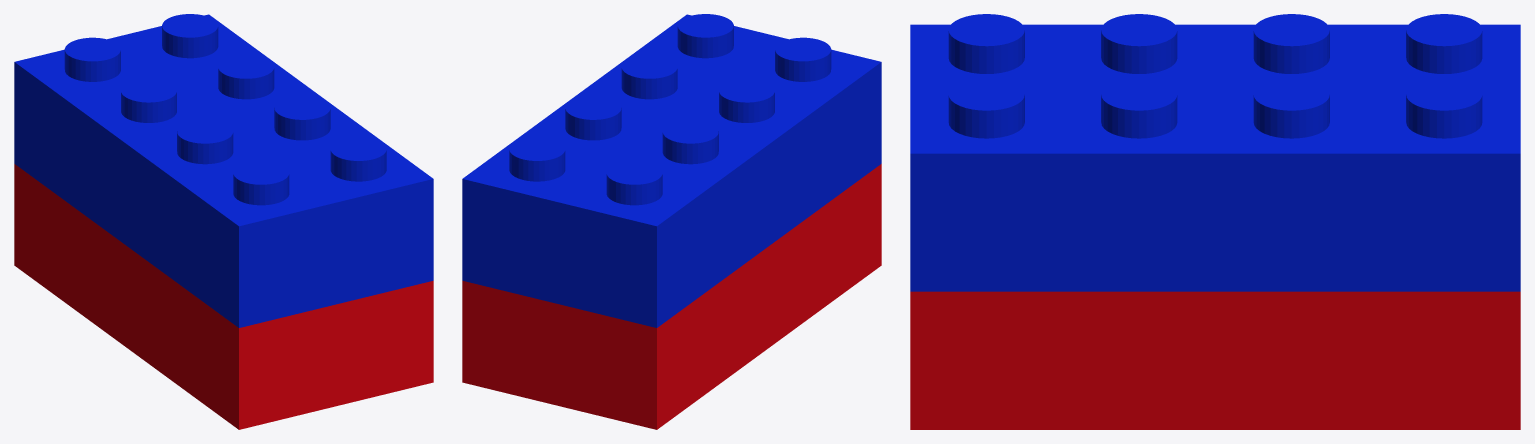
File: Block5.fbx
3 views of the same model, side by side, from view 1: azimuth 30°, elevation 25°; view 2: azimuth 150°, elevation 25°; view 3: azimuth 270°, elevation 25° (orthographic). The views are drawn at different scales.
Parts seen in each view (by area): view 1: Block3; view 2: Block3; view 3: Block3.
Part boxes in pixels (x1,y1,x2,y2): Block3: (14, 14, 433, 429); Block3: (462, 14, 881, 429); Block3: (910, 14, 1520, 429).
Size of the model in its own units: 200 by 220 by 400.
